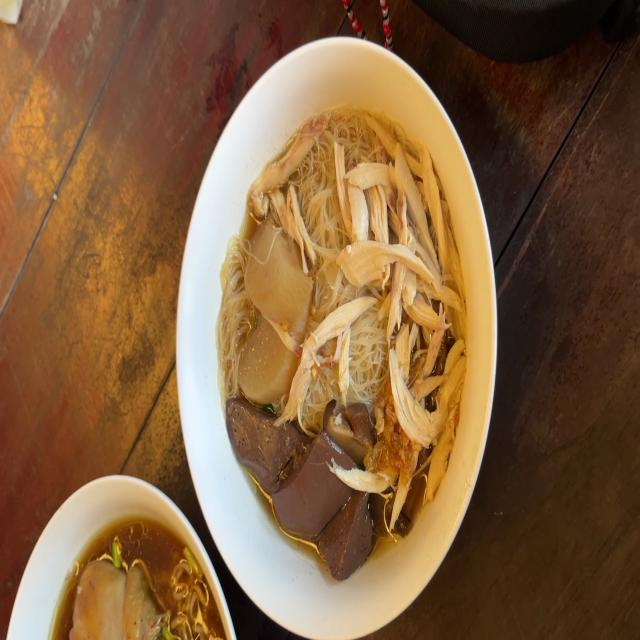noodle: (208, 94, 470, 585), (40, 497, 237, 640)
